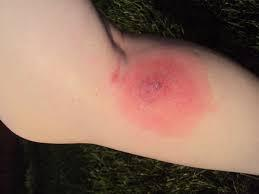Spider: (130, 61, 195, 120)
